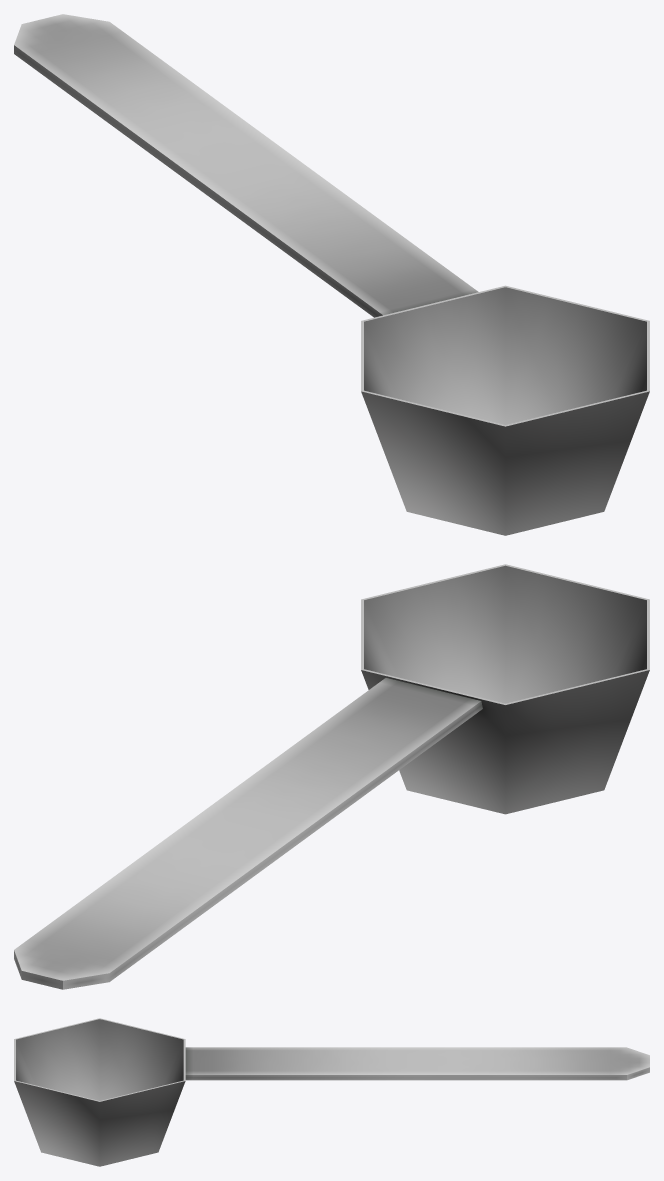
Rendered from KR_Measuring_spoons_01_01.fbx.
3 renders of one model, top to bottom at view 1: azimuth 30°, elevation 25°; view 2: azimuth 150°, elevation 25°; view 3: azimuth 270°, elevation 25°, orthographic. The views are drawn at different scales.
Visible parts, largest first — view 1: kr_measuring_spoons_01_01; view 2: kr_measuring_spoons_01_01; view 3: kr_measuring_spoons_01_01.
Part boxes in pixels (x1,y1,x2,y2): kr_measuring_spoons_01_01: [14, 14, 649, 535]; kr_measuring_spoons_01_01: [14, 564, 649, 989]; kr_measuring_spoons_01_01: [14, 1018, 649, 1166].
Size of the model in its own units: 2.27 by 1.14 by 7.29.
